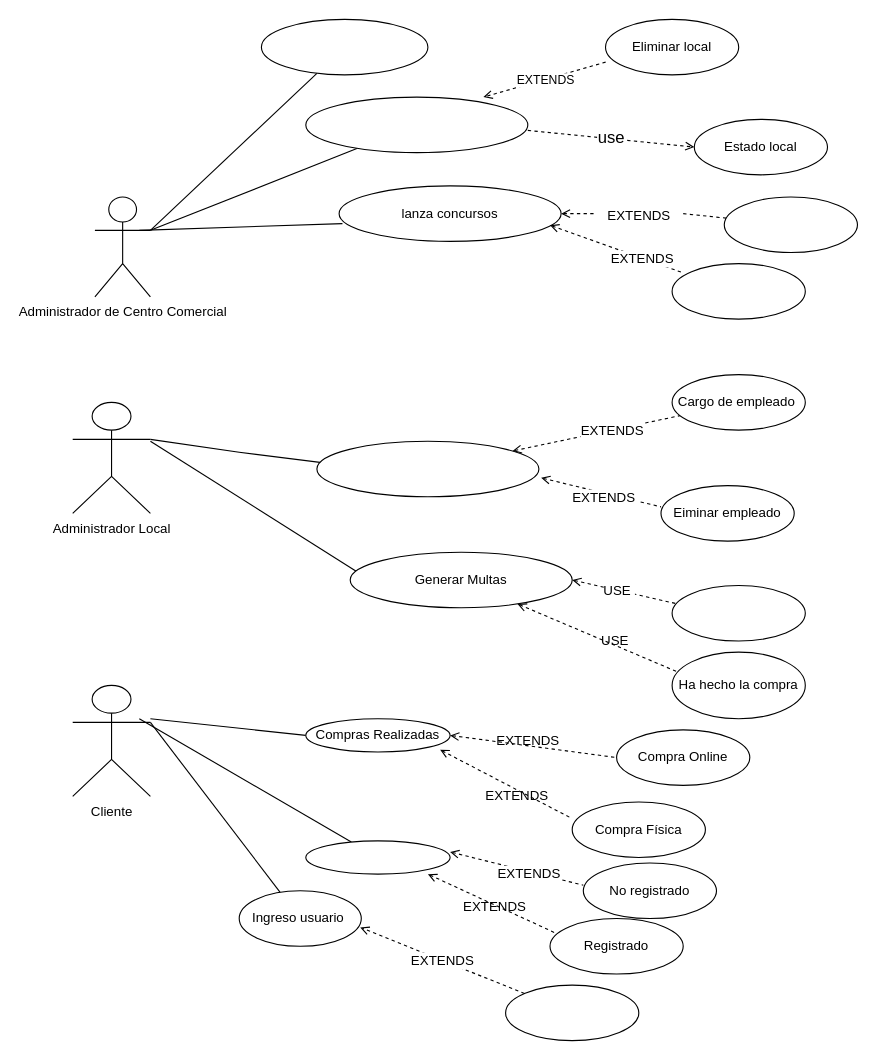
The diagram is 877 pixels wide and 1060 high, and some of its shapes have lost their labels. The box of each missing label's shape, as (x1, y1, x2, y2) in pixels:
Consulta local: (305, 96, 528, 153)
consultar ventas del negocio: (260, 18, 428, 75)
No ha hecho la compra: (671, 584, 805, 641)
persona escogida: (723, 196, 857, 253)
persona no escogida: (671, 263, 805, 319)
Realizar compras: (504, 984, 639, 1041)
Registro empleados: (316, 440, 539, 497)
Registro Sistema: (305, 840, 450, 874)
